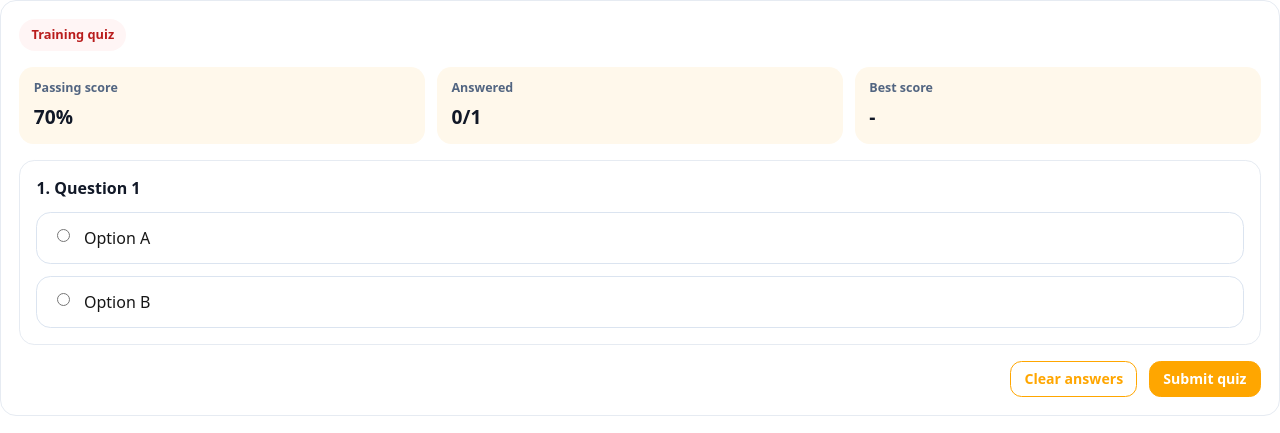
ChapterTrainingQuiz › submits the learner answers and shows the success state
Expected: the text "1. Question 1" is shown, [36,177,140,199]
Click the radio button labelled "Option A" at (63, 236), box [57,229,70,242]
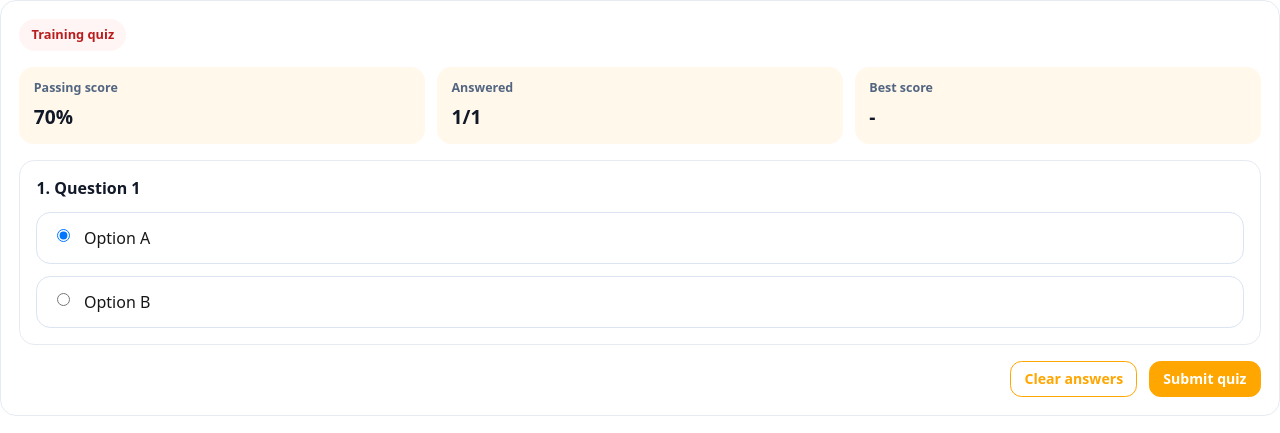
Click the button "Submit quiz" at (1205, 379), box [1149,360,1261,397]
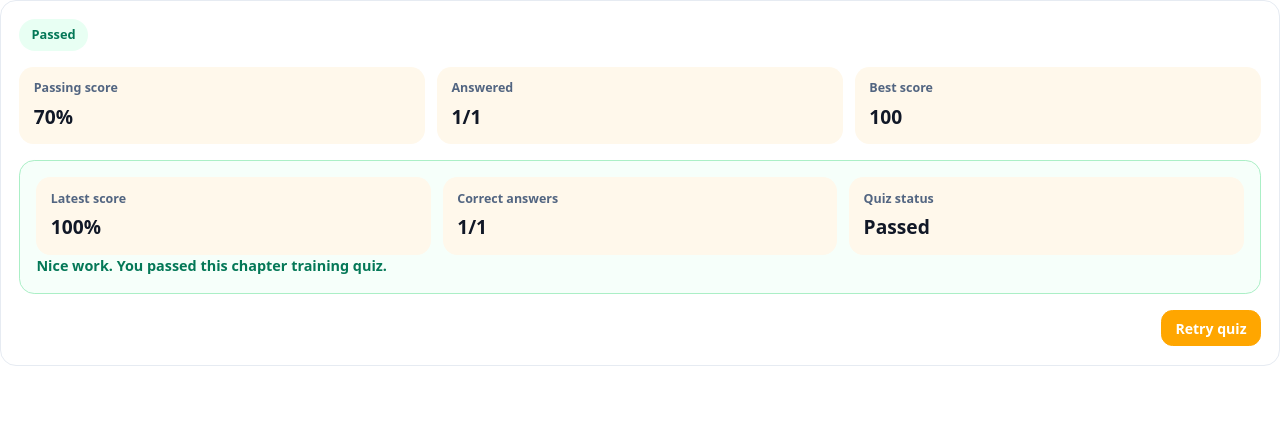
Now the text "Nice work. You passed this chapter training quiz." is shown, box [36,256,387,275]
Now the text "Latest score" is shown, box [51,190,126,207]
Now the text "100%" is shown, box [51,213,101,240]
